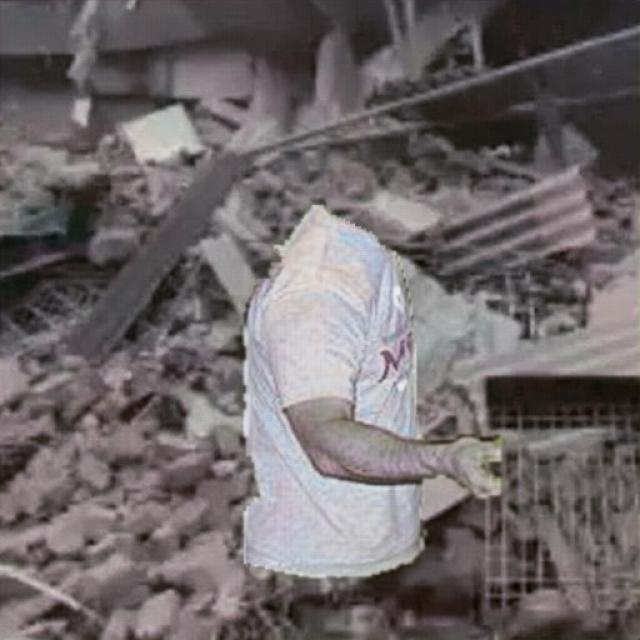Person in Rubble: (241, 203, 500, 576)
